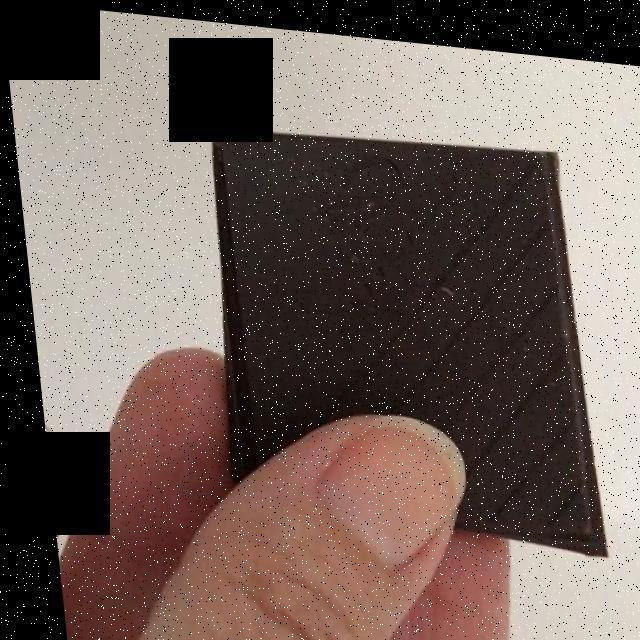chocolate: (204, 110, 600, 554)
